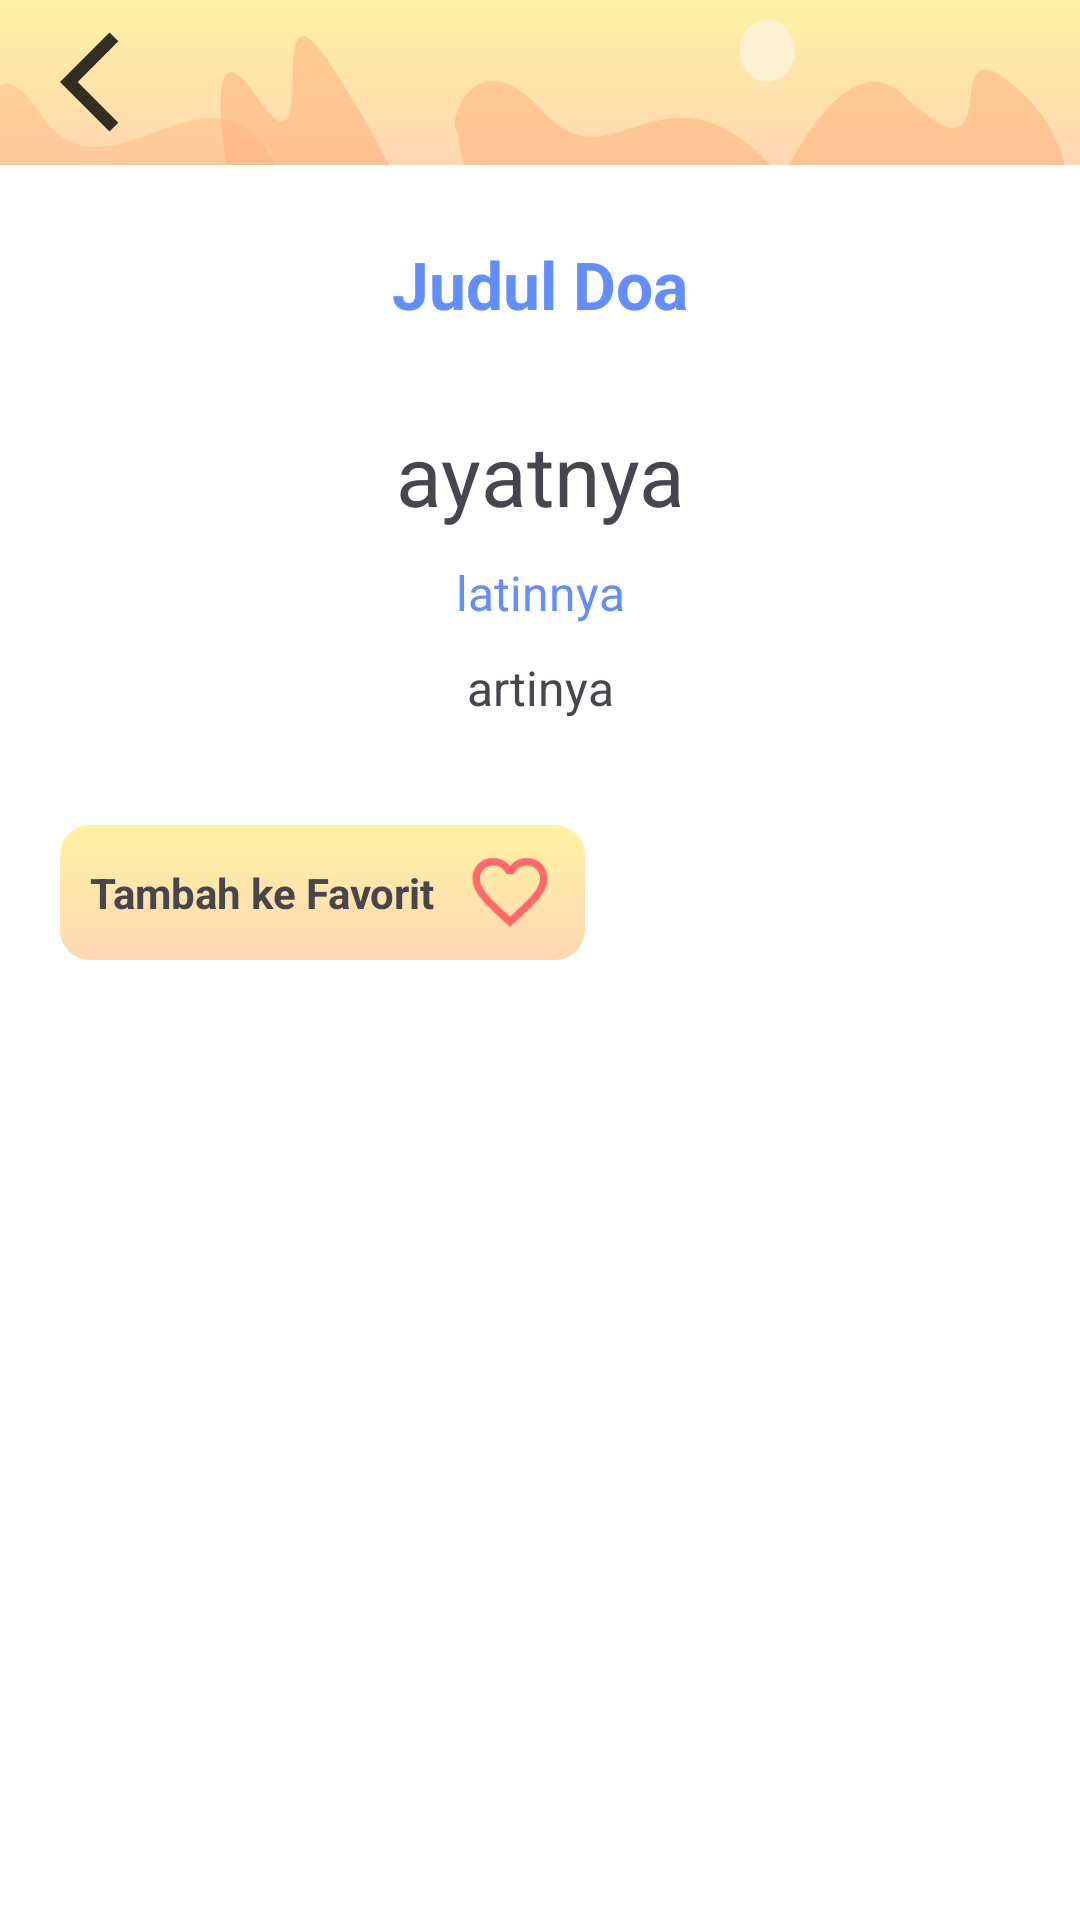

Locate icon controls on the screen. Image size 1080 × 1920, boxes as (x1, y1, x2, y2).
fav: (465, 857, 555, 938)
